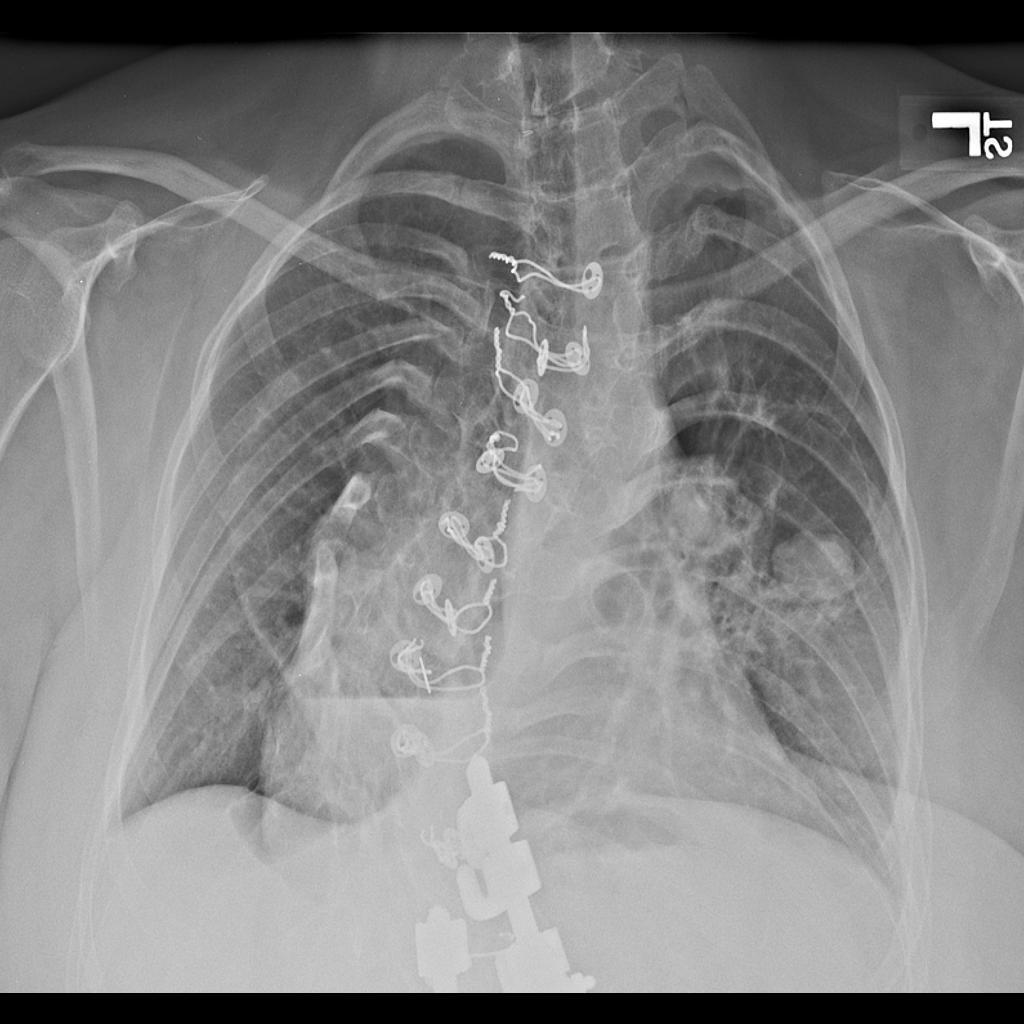Nodule: (764, 525, 872, 628)
